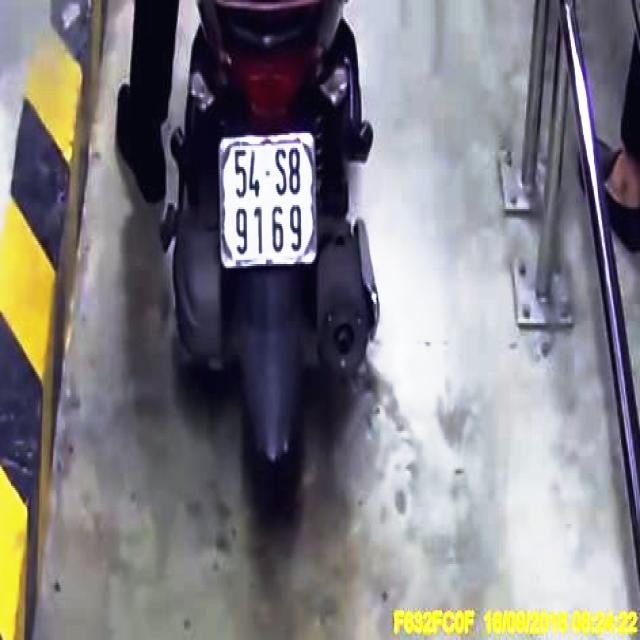license_plate: (222, 135, 318, 265)
